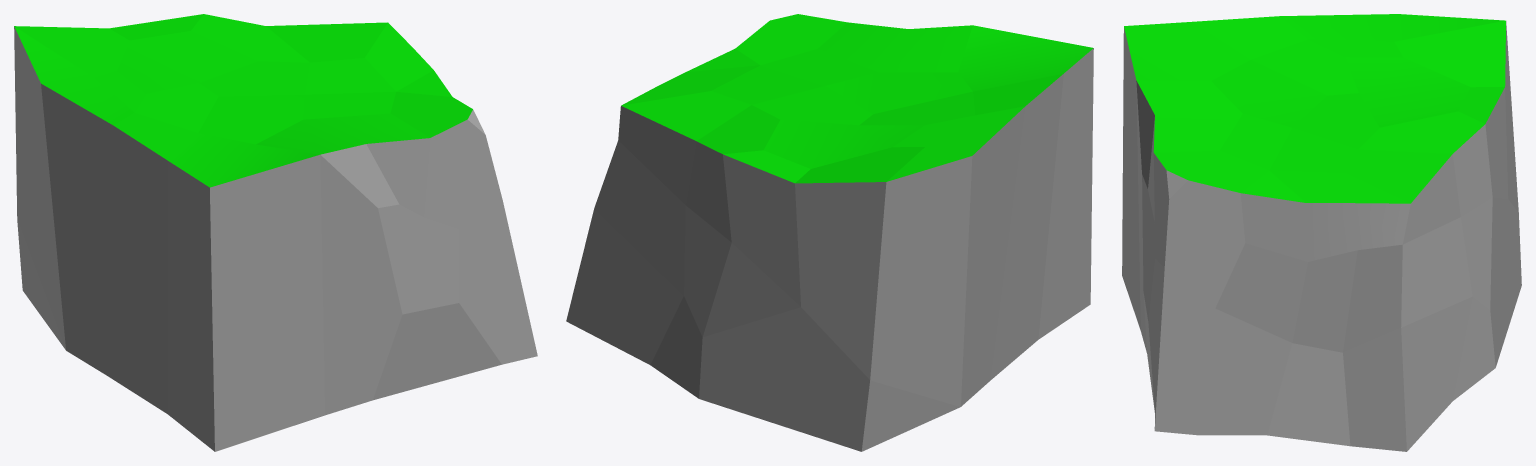
The model's file is rock_beach_medium_B.fbx.
The picture shows the model from 3 angles, left to right: view 1: azimuth 30°, elevation 25°; view 2: azimuth 150°, elevation 25°; view 3: azimuth 270°, elevation 25°; orthographic projection. The views are drawn at different scales.
Visible parts, largest first — view 1: rock_beach_medium_B; view 2: rock_beach_medium_B; view 3: rock_beach_medium_B.
Part boxes in pixels (x1,y1,x2,y2): rock_beach_medium_B: [14, 14, 537, 451]; rock_beach_medium_B: [566, 14, 1093, 451]; rock_beach_medium_B: [1122, 14, 1521, 451].
Size of the model in its own units: 78.44 by 50 by 70.44.
